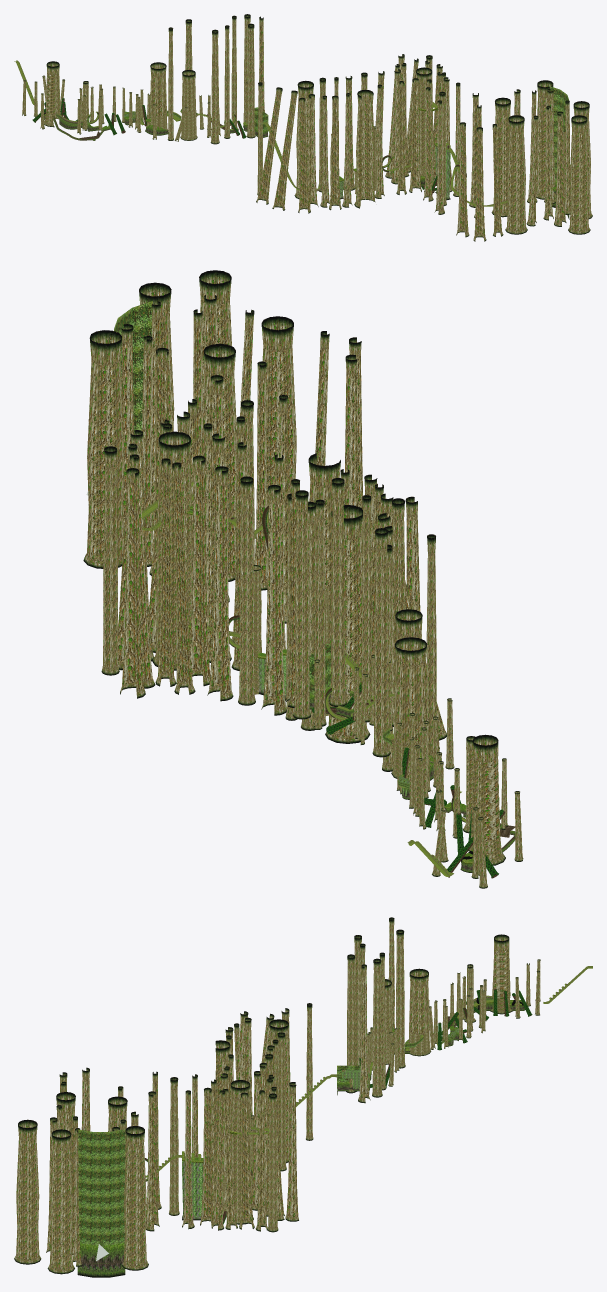
The model's file is GreenForest.obj.
3 renders of one model, top to bottom at view 1: azimuth 30°, elevation 25°; view 2: azimuth 150°, elevation 25°; view 3: azimuth 270°, elevation 25°, orthographic. The views are drawn at different scales.
Size of the model in its own units: 12206 by 5037 by 13379.
Materials: 24 (24 with a texture image).
